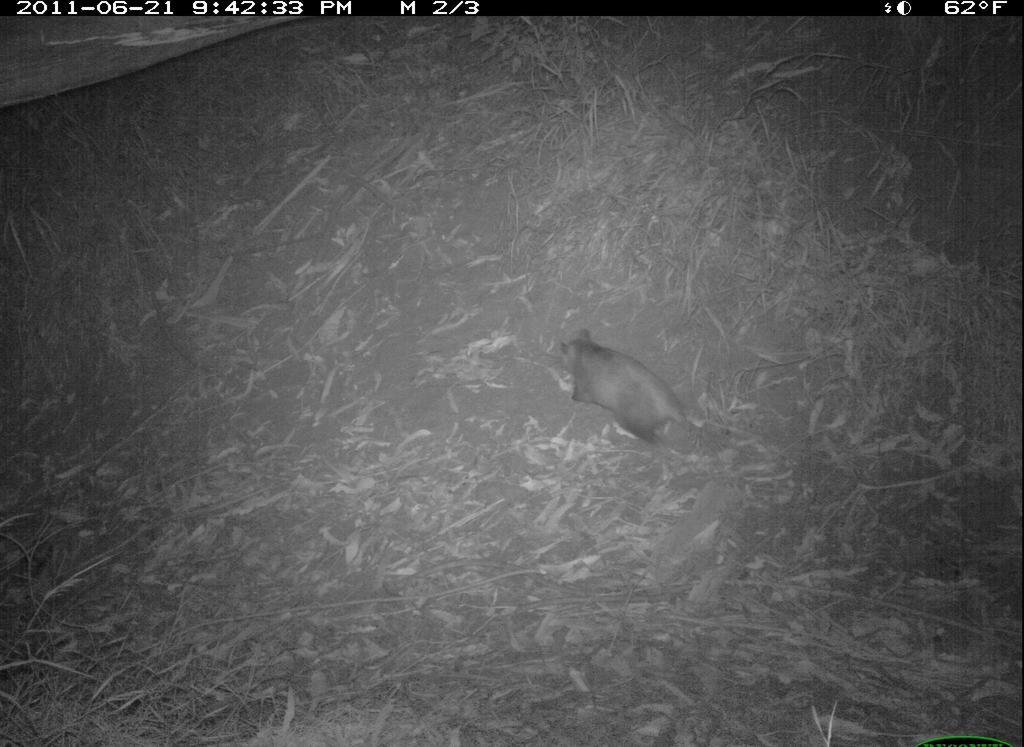opossum: (553, 315, 763, 457)
